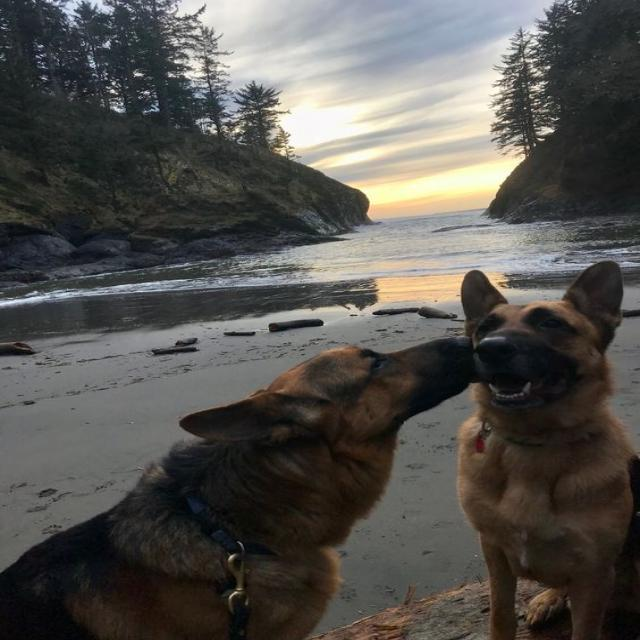Dogs: (0, 330, 483, 640), (451, 257, 640, 640)
